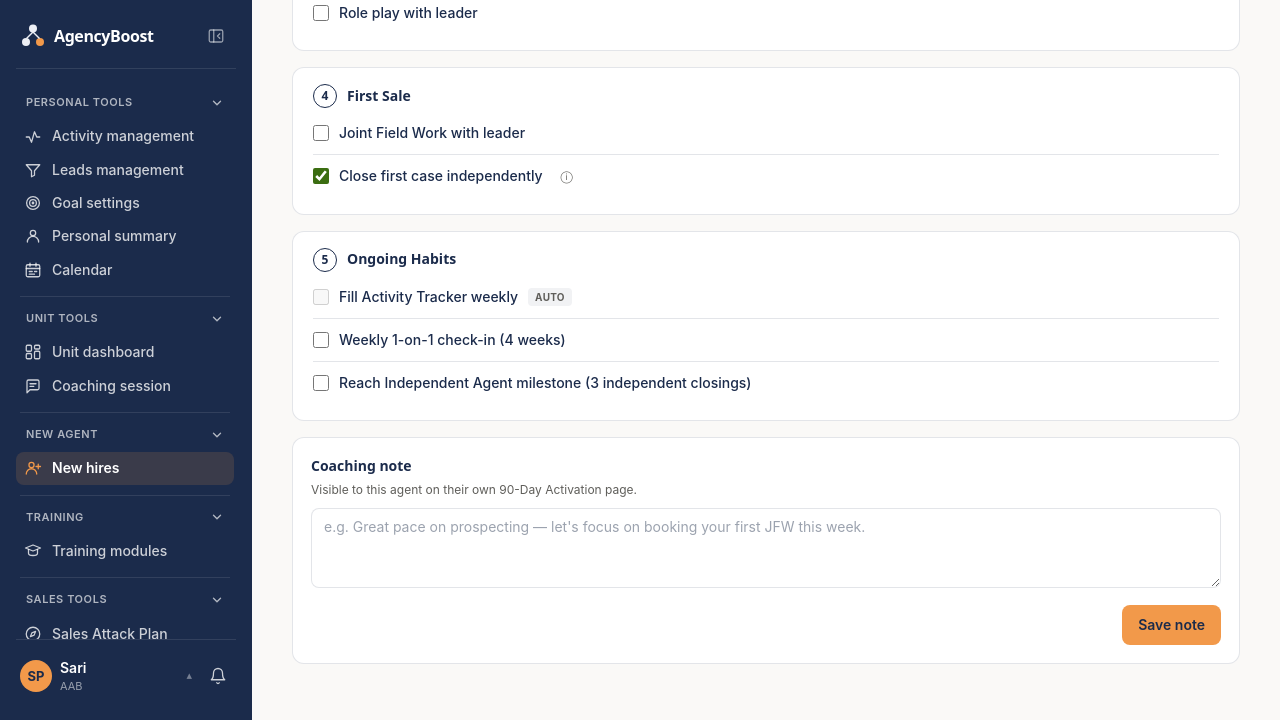
Scenario: /new-hires/[membershipId], one hire as a leader reads it (P13-T5, P13-T6) › P13-T6 AC-2 an empty note is not sent
(page scrolled)
Check: the text box is empty, box [311,508,1221,588]
Click the button "Save note": (1172, 625) [1122,605,1221,645]
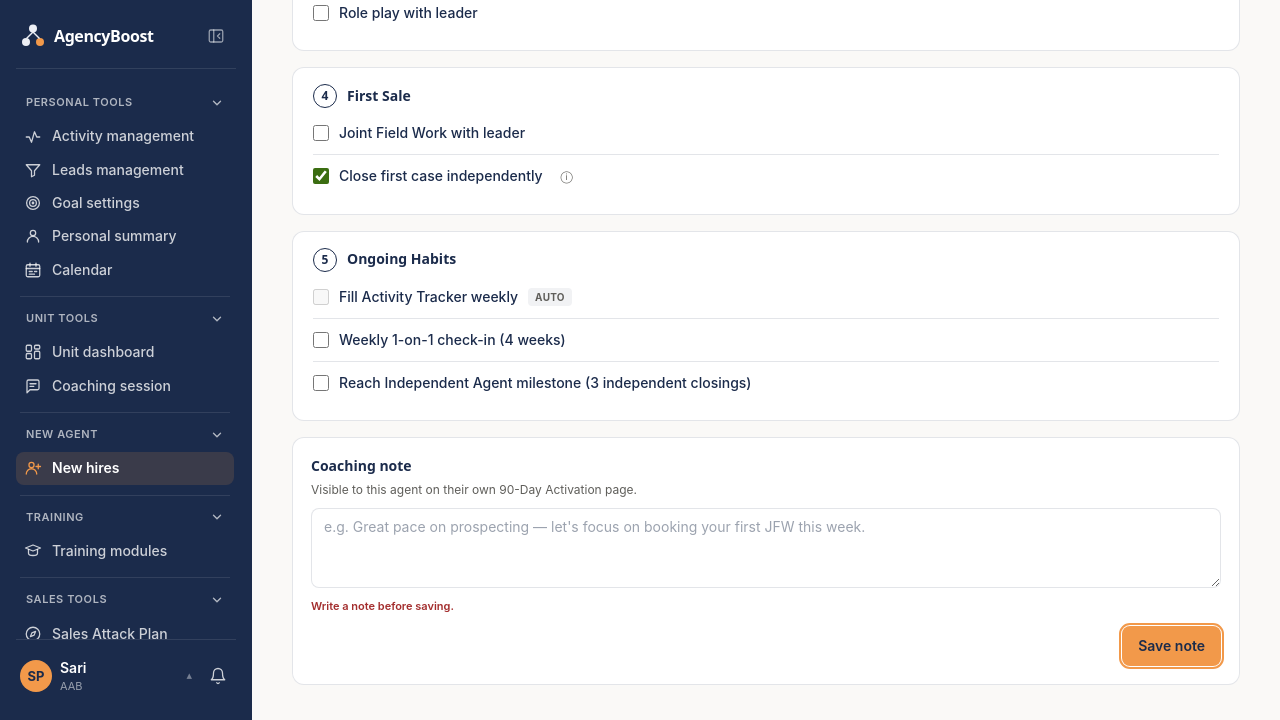
Check: the message reads "Write a note before saving.", box [311,599,454,613]
